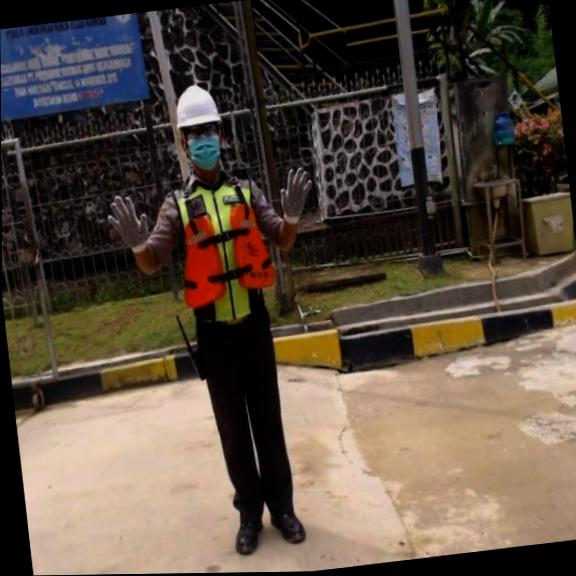safety_vest: (177, 195, 281, 309)
